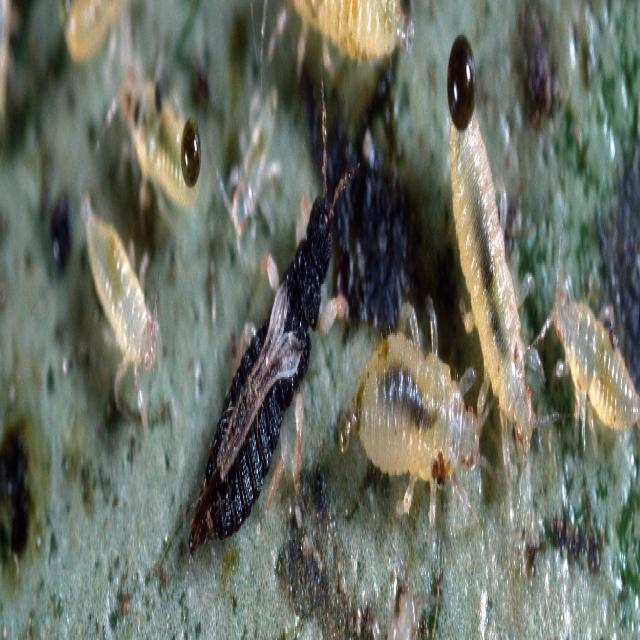Thrip-Adult-: (181, 89, 365, 592)
Thrip-Larva-: (342, 268, 483, 536), (448, 67, 540, 440), (76, 179, 170, 436), (536, 238, 638, 463)
